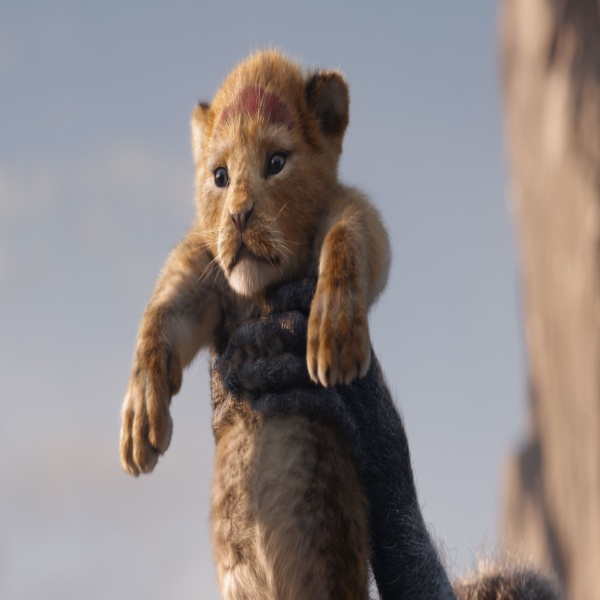Lion: (113, 45, 399, 598)
